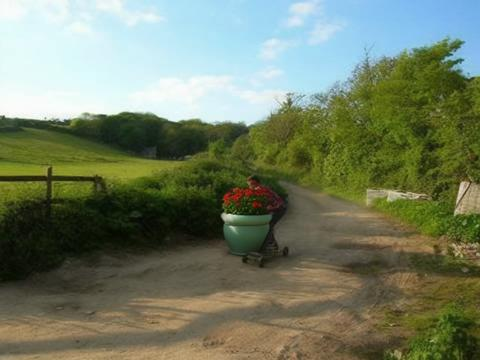person: (237, 176, 291, 269)
pottedplant: (222, 189, 268, 256)
